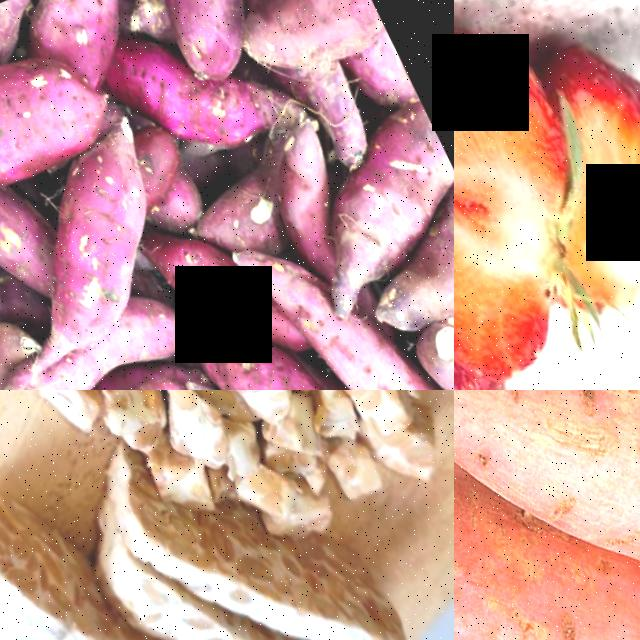strawberry: (454, 0, 640, 390), (511, 0, 640, 303)
sweet potato: (454, 390, 640, 608), (1, 129, 188, 321), (0, 19, 128, 219), (543, 390, 640, 635), (454, 390, 524, 640), (454, 565, 640, 640), (226, 0, 391, 80), (352, 224, 454, 343), (132, 0, 265, 90)
tempeh: (50, 438, 222, 640), (226, 503, 408, 640), (0, 478, 131, 640)
